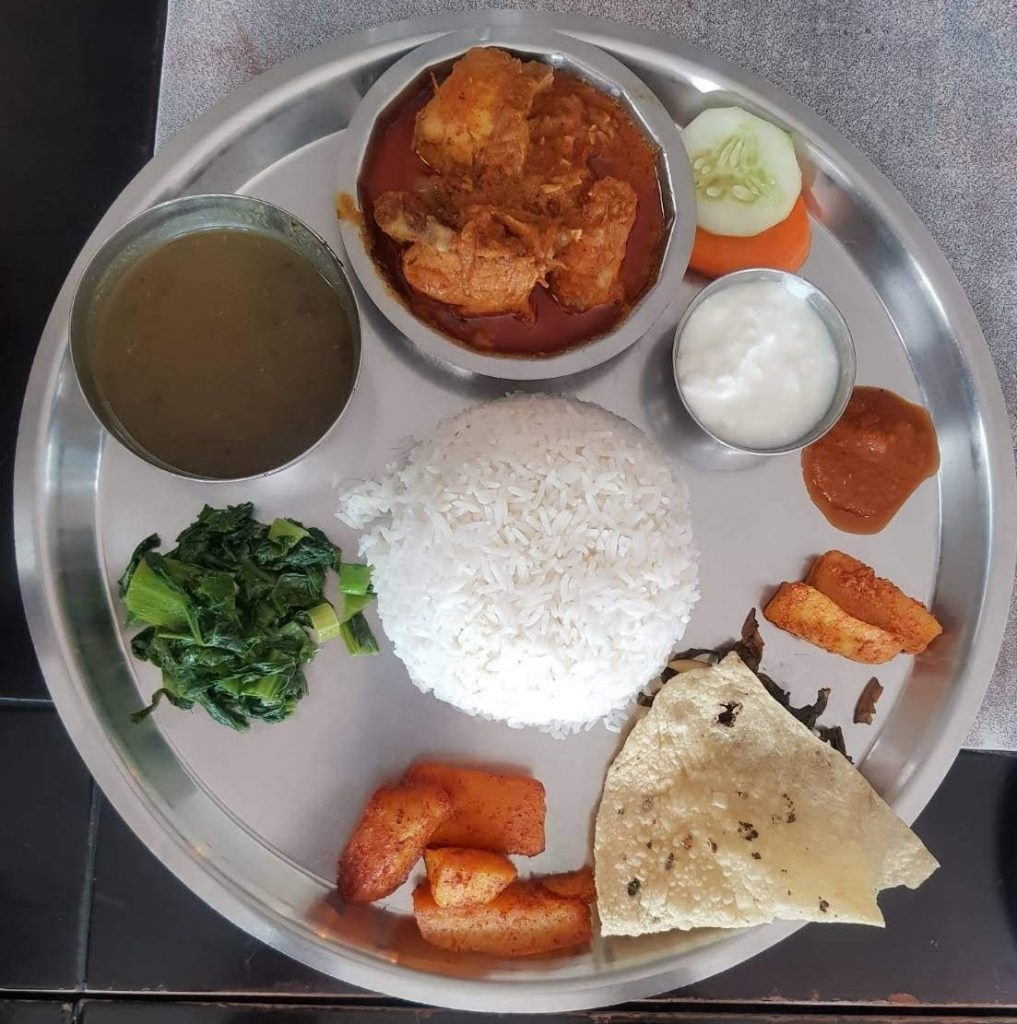bhat: (373, 399, 697, 728)
dal: (97, 224, 344, 464)
sabji: (321, 774, 588, 957), (115, 504, 342, 709)
